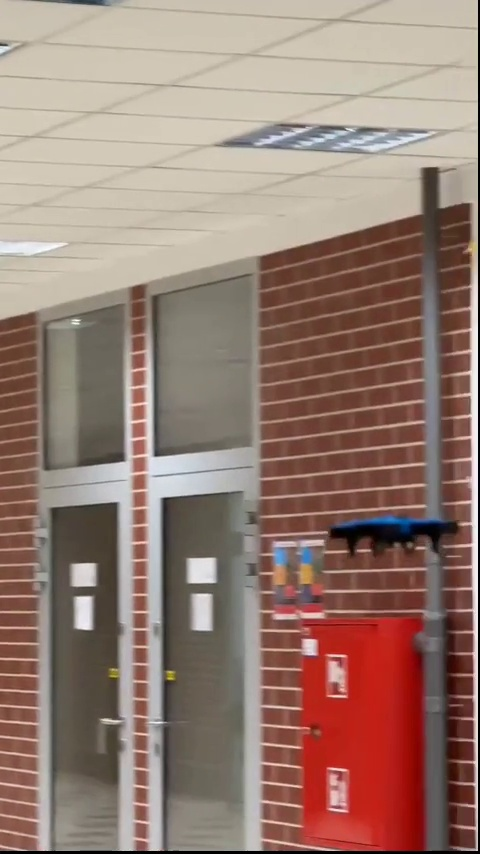drone: (326, 512, 459, 559)
